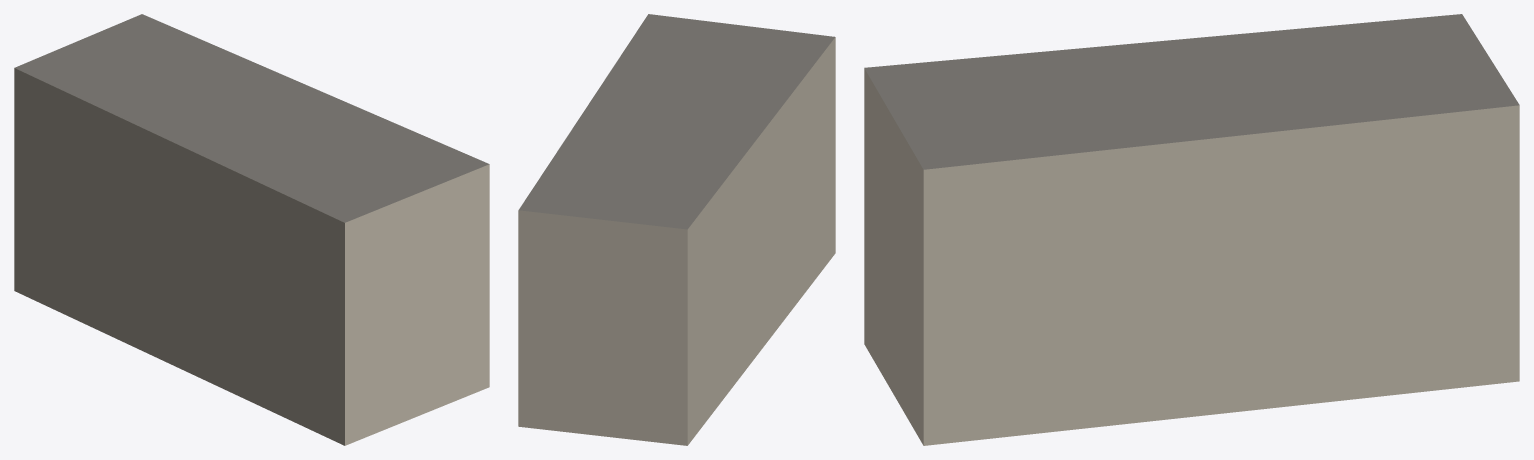
3 renders of one model, left to right at view 1: azimuth 30°, elevation 25°; view 2: azimuth 150°, elevation 25°; view 3: azimuth 270°, elevation 25°, orthographic. The views are drawn at different scales.
Visible parts, largest first — view 1: HP-w378107145; view 2: HP-w378107145; view 3: HP-w378107145.
Boxes of the visible parts, left/top/right/bottom form: HP-w378107145: left=14, top=14, right=489, bottom=445; HP-w378107145: left=518, top=14, right=835, bottom=445; HP-w378107145: left=864, top=14, right=1519, bottom=445.
Size of the model in its own units: 18.15 by 15 by 32.28.
